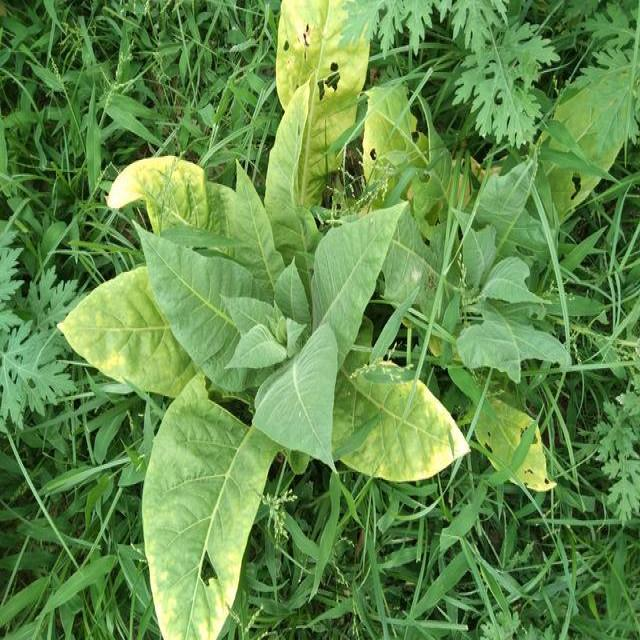crop: (58, 75, 470, 632)
